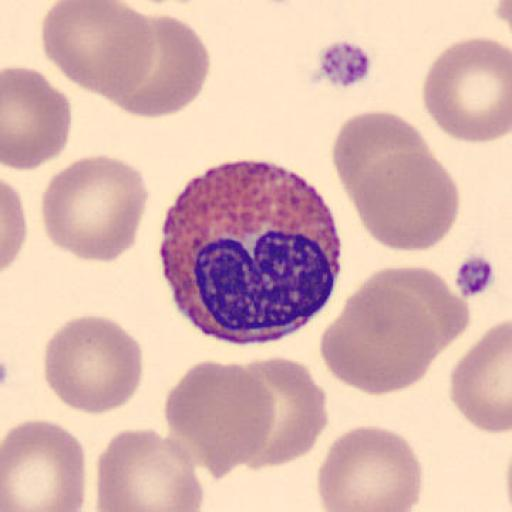Platelet: (307, 37, 377, 90)
RBC: (320, 265, 444, 397), (163, 358, 275, 482), (40, 0, 156, 109), (40, 152, 151, 264), (228, 354, 331, 473), (104, 12, 212, 119), (350, 150, 462, 253), (359, 264, 472, 358), (331, 108, 434, 211), (42, 312, 144, 416), (421, 34, 512, 144), (316, 423, 425, 512), (94, 427, 206, 512), (0, 417, 88, 512), (3, 64, 72, 172), (449, 319, 512, 434), (2, 178, 28, 274), (493, 0, 512, 34)
WBC: (157, 158, 345, 346)
